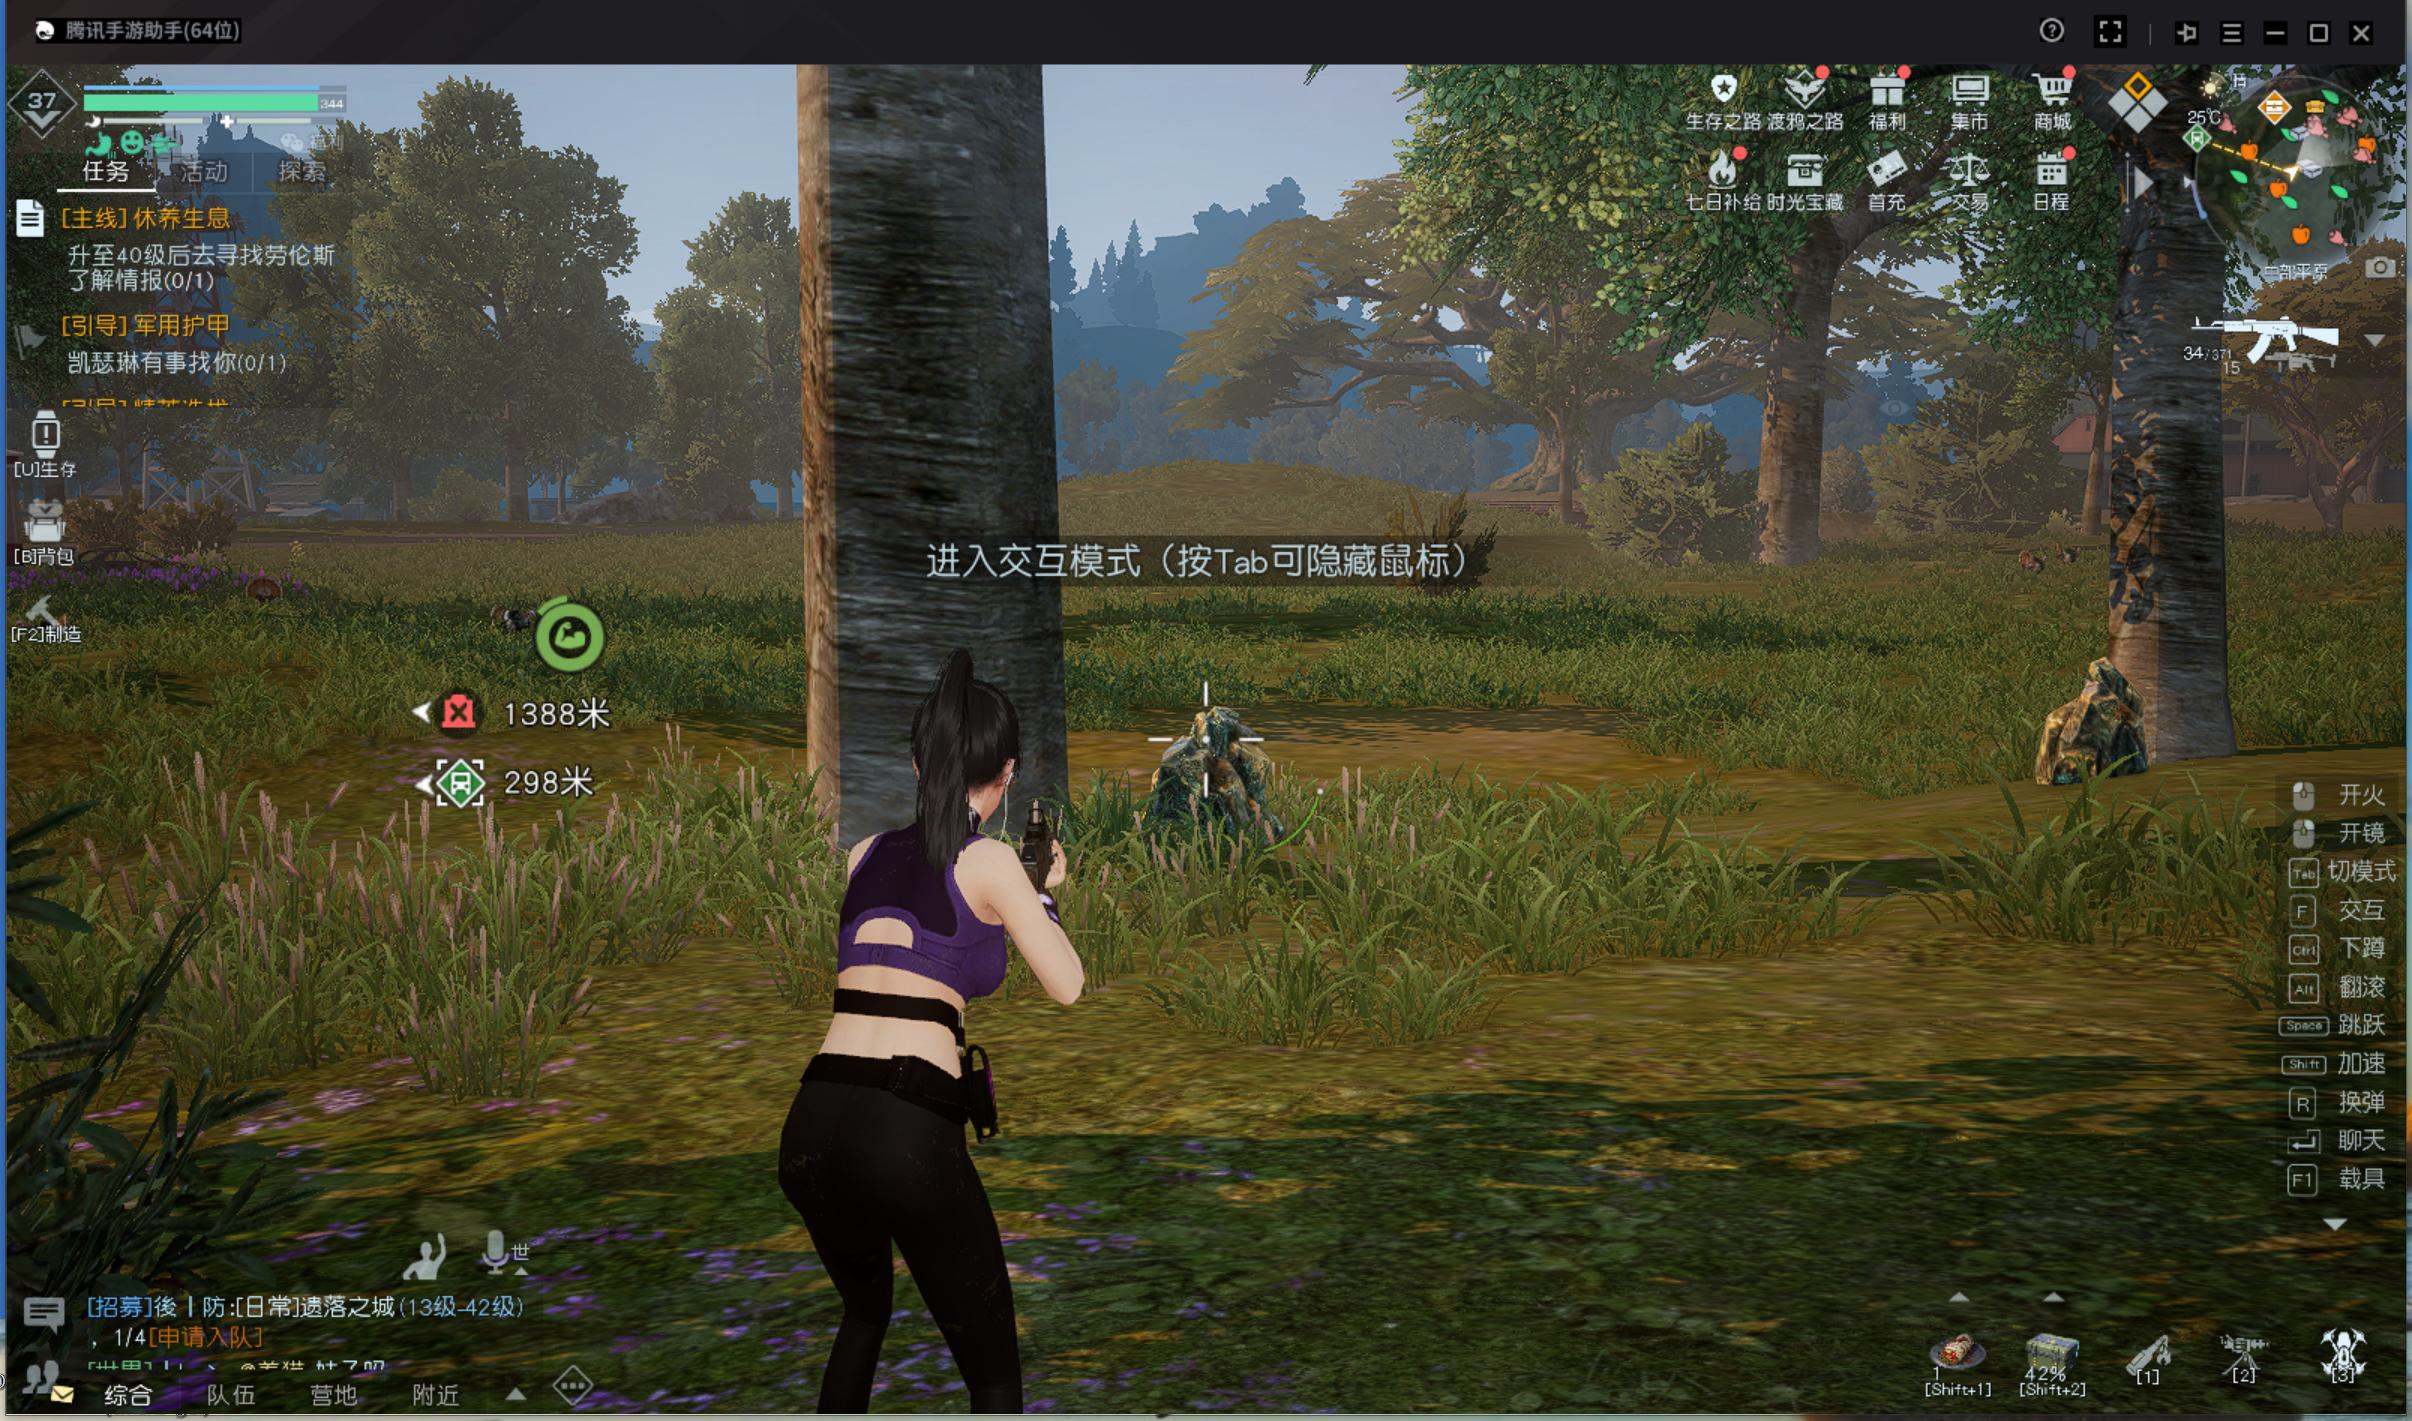stone: (1130, 677, 1302, 870), (2031, 661, 2140, 804)
tree: (778, 162, 1072, 895), (2102, 255, 2251, 775), (1746, 276, 1830, 568)
